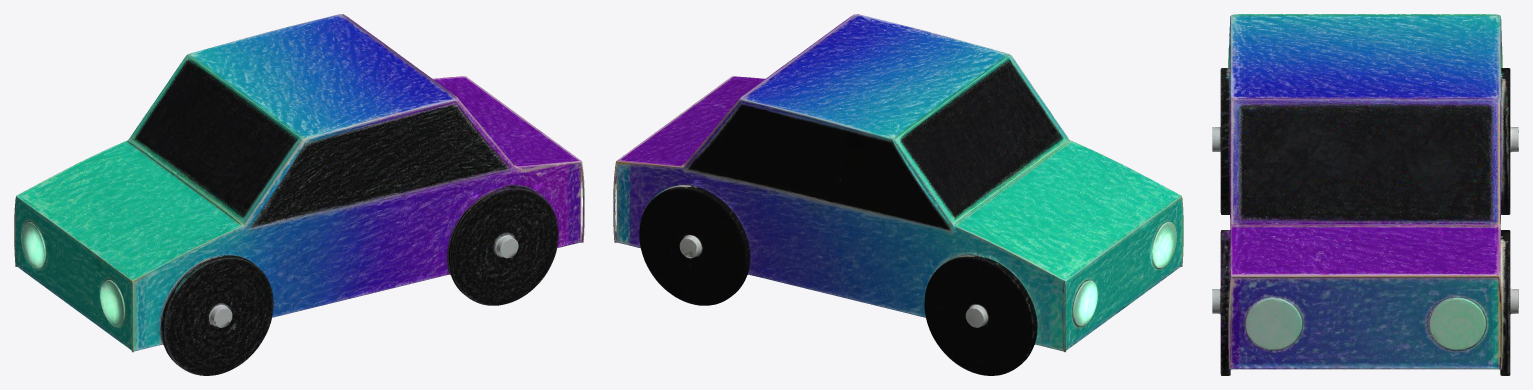
File: starter.glb
3 renders of one model, left to right at view 1: azimuth 30°, elevation 25°; view 2: azimuth 150°, elevation 25°; view 3: azimuth 270°, elevation 25°, orthographic. The views are drawn at different scales.
Parts seen in each view (by area): view 1: object 1, wheel_1, wheel_3; view 2: object 1, wheel_0, wheel_2; view 3: object 1, wheel_1, wheel_3, wheel_2, wheel_0.
Boxes of the visible parts, x1,y1,x2,y2 form: object 1: (14,14,584,375); wheel_1: (447,185,558,304); wheel_3: (165,258,273,375); object 1: (613,14,1183,375); wheel_0: (639,186,750,304); wheel_2: (924,258,1032,375); object 1: (1212,14,1518,375); wheel_1: (1212,230,1230,373); wheel_3: (1212,69,1229,213); wheel_2: (1501,72,1518,213); wheel_0: (1500,230,1518,373).
Bounding box in the file's own units: 1.9 × 0.8576 × 0.9621.
Materials: 1 (1 with a texture image).
